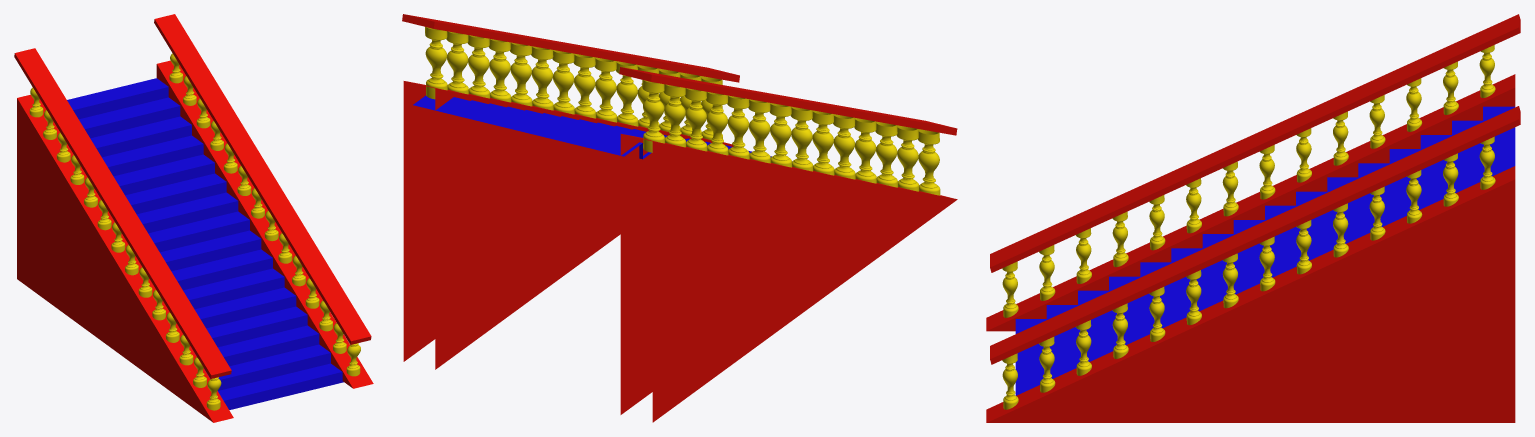
The model's file is Escalier.fbx.
3 renders of one model, left to right at view 1: azimuth 30°, elevation 25°; view 2: azimuth 150°, elevation 25°; view 3: azimuth 270°, elevation 25°, orthographic. The views are drawn at different scales.
Visible parts, largest first — view 1: NSM_Escalier.006; view 2: NSM_Escalier.006; view 3: NSM_Escalier.006.
Boxes of the visible parts, x1,y1,x2,y2 form: NSM_Escalier.006: (14, 14, 373, 422); NSM_Escalier.006: (402, 14, 957, 422); NSM_Escalier.006: (986, 14, 1520, 422).
Bounding box in the file's own units: 300 × 404 × 640.
